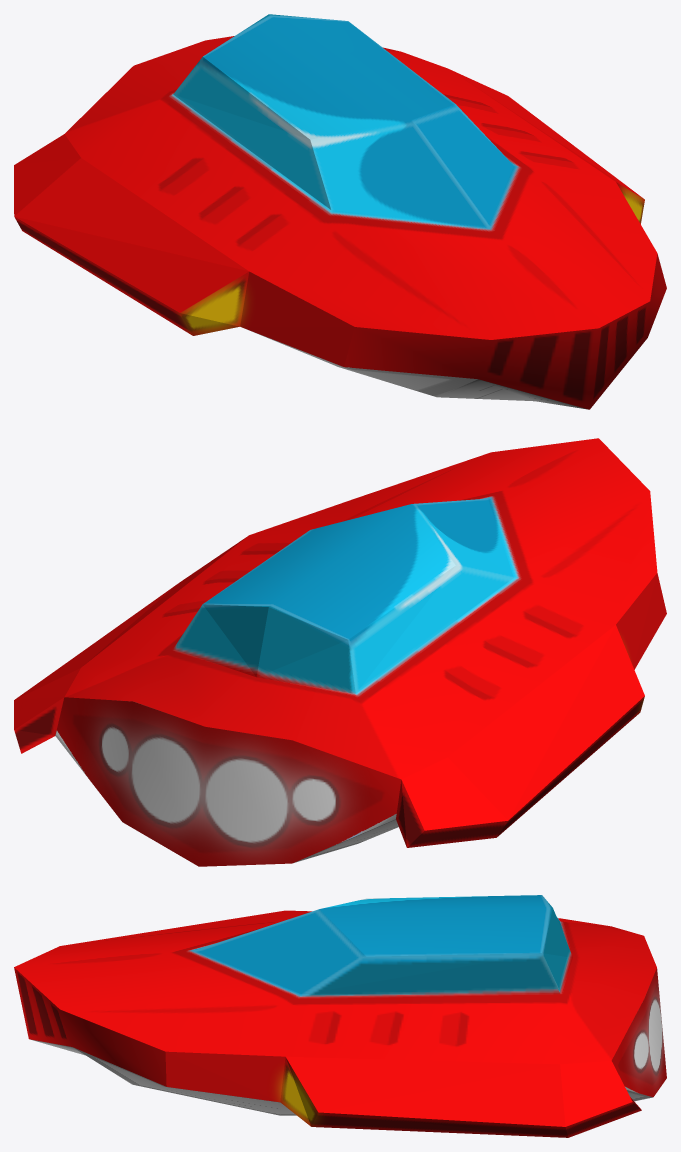
File: Speeder1.FBX
3 renders of one model, top to bottom at view 1: azimuth 30°, elevation 25°; view 2: azimuth 150°, elevation 25°; view 3: azimuth 270°, elevation 25°, orthographic. The views are drawn at different scales.
Visible parts, largest first — view 1: Speeder1; view 2: Speeder1; view 3: Speeder1.
Boxes of the visible parts, <box> form: Speeder1: <box>14,14,666,409</box>; Speeder1: <box>14,438,666,866</box>; Speeder1: <box>14,895,666,1137</box>.
Size of the model in its own units: 86.53 by 38.22 by 121.
Materials: 1 (1 with a texture image).
